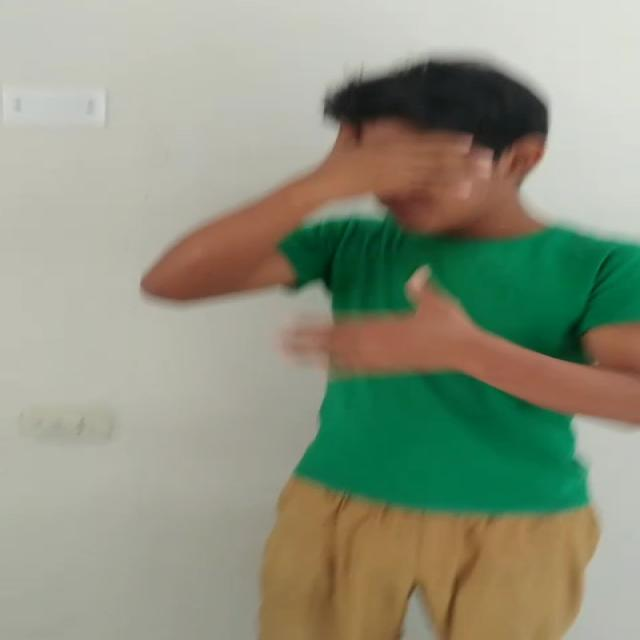7_mano_rostro: (251, 120, 495, 248)
